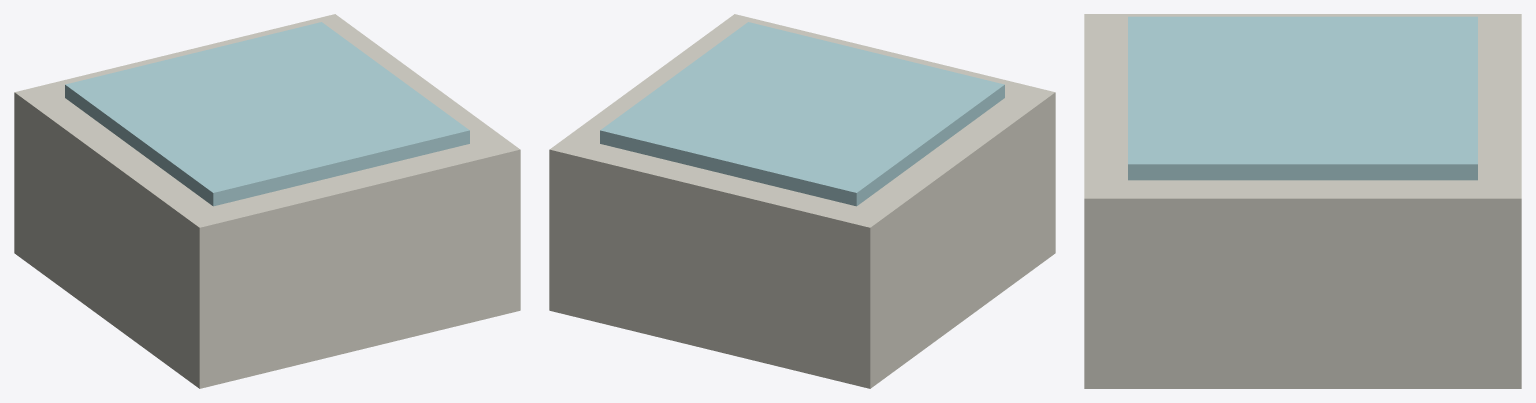
The model's file is supermarket-operations-cake-box-fc944349__26881.glb.
3 views of the same model, side by side, from view 1: azimuth 30°, elevation 25°; view 2: azimuth 150°, elevation 25°; view 3: azimuth 270°, elevation 25° (orthographic). The views are drawn at different scales.
Visible parts, largest first — view 1: cake-box; view 2: cake-box; view 3: cake-box.
Boxes of the visible parts, box(x1,y1,x2,y2) form: cake-box: box(14, 14, 520, 388); cake-box: box(549, 14, 1055, 388); cake-box: box(1084, 14, 1521, 388).
Bounding box in the file's own units: 0.25 × 0.13 × 0.25.
